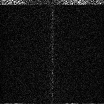wifi: (1, 1, 104, 5)
